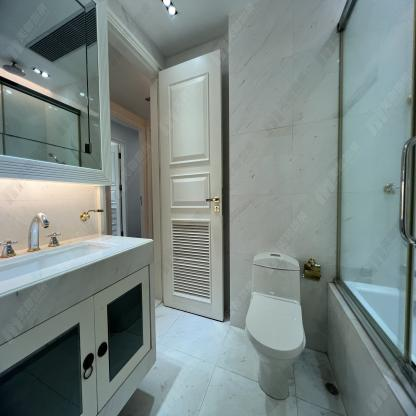Bathtub: (325, 280, 416, 416)
Toilet: (244, 251, 306, 400)
Toilet Sink: (0, 231, 155, 344)
